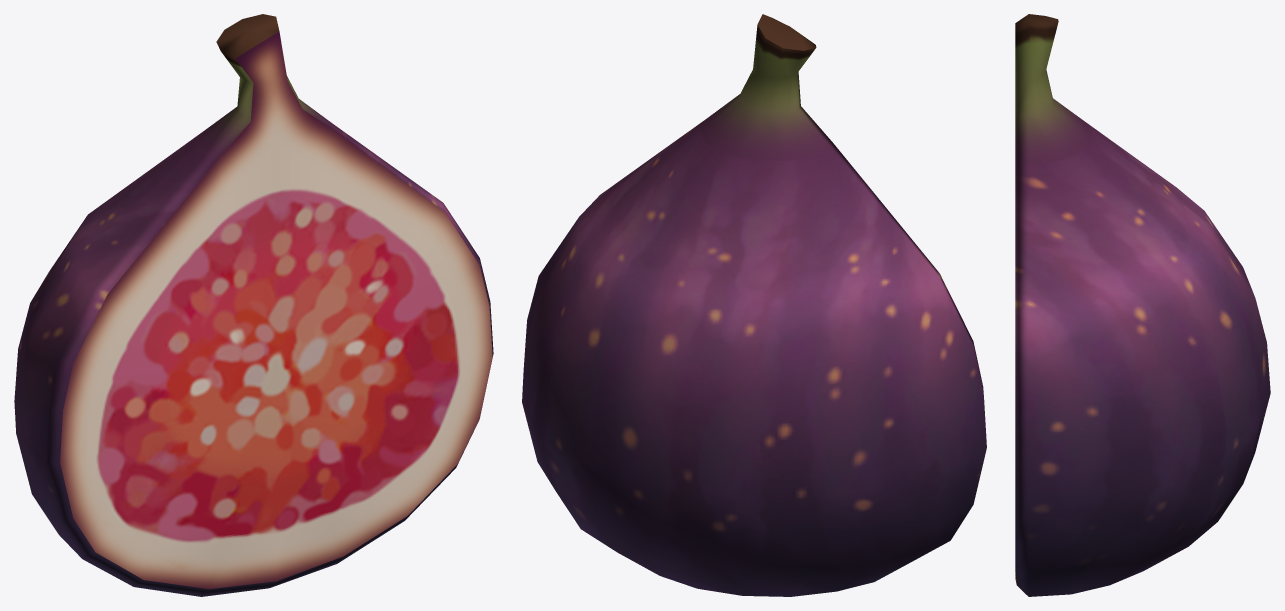
File: Fig_Purple_Half.fbx
3 renders of one model, left to right at view 1: azimuth 30°, elevation 25°; view 2: azimuth 150°, elevation 25°; view 3: azimuth 270°, elevation 25°, orthographic. The views are drawn at different scales.
Parts seen in each view (by area): view 1: Fig_Purple_Half; view 2: Fig_Purple_Half; view 3: Fig_Purple_Half.
Part boxes in pixels (x1,y1,x2,y2): Fig_Purple_Half: (14, 14, 493, 596); Fig_Purple_Half: (522, 14, 986, 596); Fig_Purple_Half: (1015, 14, 1270, 596).
Size of the model in its own units: 25.79 by 31.28 by 13.21.
